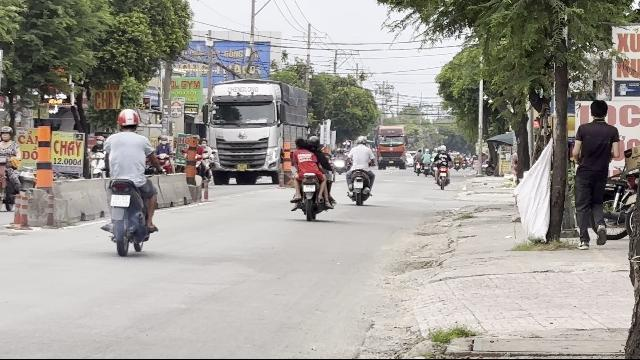helmet: (116, 108, 140, 132)
licenseplate: (110, 194, 130, 206)
motorcyclist: (97, 108, 161, 254)
